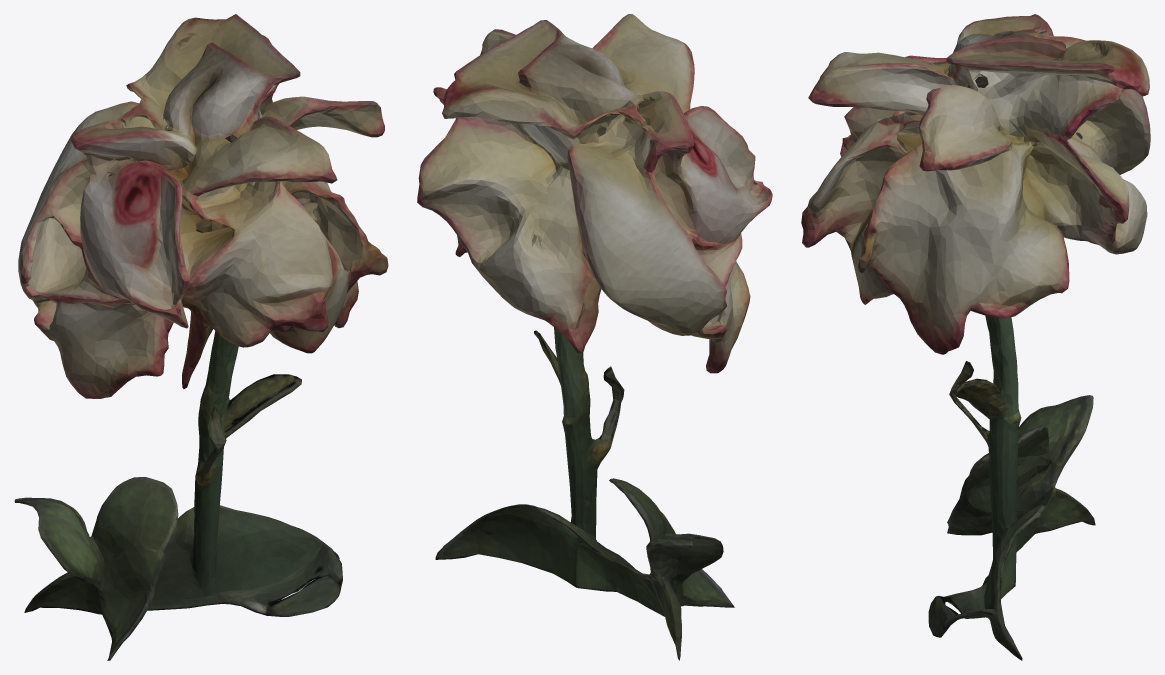
3 renders of one model, left to right at view 1: azimuth 30°, elevation 25°; view 2: azimuth 150°, elevation 25°; view 3: azimuth 270°, elevation 25°, orthographic. The views are drawn at different scales.
Parts seen in each view (by area): view 1: world; view 2: world; view 3: world.
Boxes of the visible parts, x1,y1,x2,y2 form: world: (14, 14, 388, 660); world: (417, 14, 772, 660); world: (801, 14, 1150, 660).
Size of the model in its own units: 0.5714 by 0.9787 by 0.537.
Materials: 1 (1 with a texture image).
